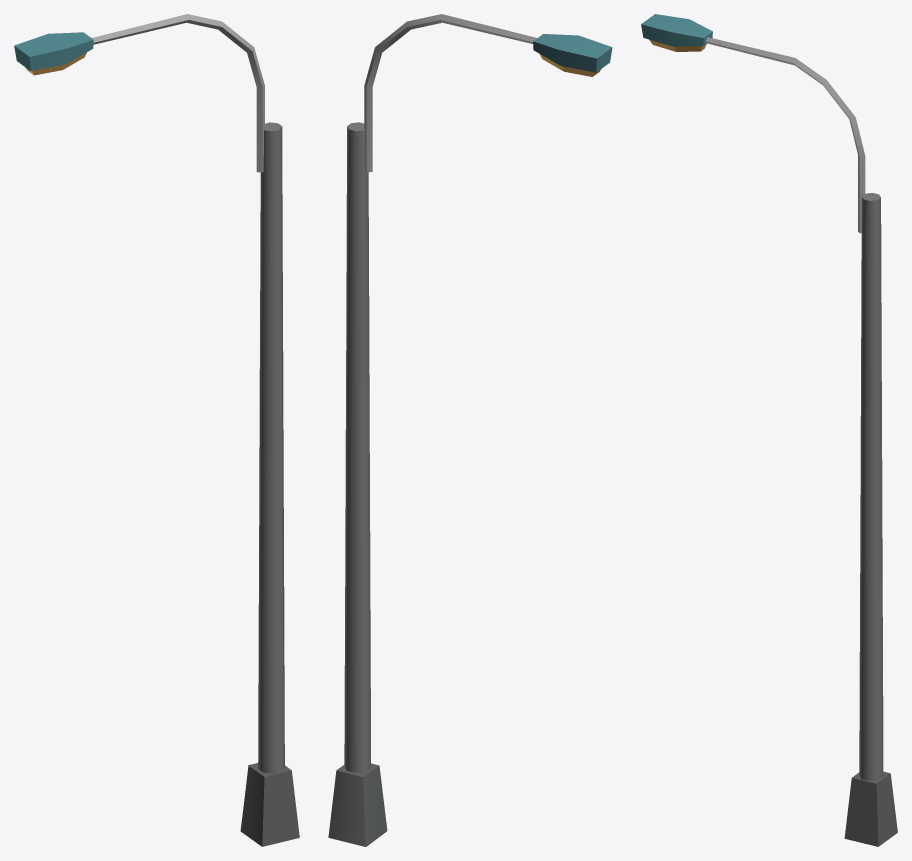
File: wujian_streetLight_01.FBX
3 views of the same model, side by side, from view 1: azimuth 30°, elevation 25°; view 2: azimuth 150°, elevation 25°; view 3: azimuth 330°, elevation 25° (orthographic). The views are drawn at different scales.
Parts seen in each view (by area): view 1: wujian_streetLight_01; view 2: wujian_streetLight_01; view 3: wujian_streetLight_01.
Part boxes in pixels (<box>): wujian_streetLight_01: <box>14,14,299,846</box>; wujian_streetLight_01: <box>328,14,612,846</box>; wujian_streetLight_01: <box>641,14,897,846</box>.
Size of the model in its own units: 3.44 by 10.41 by 0.4891.
